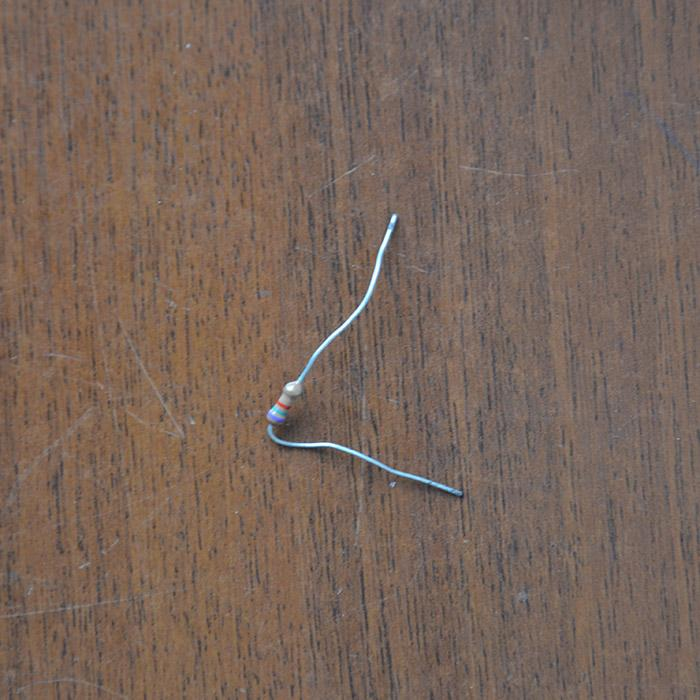resistor: (266, 379, 303, 424)
